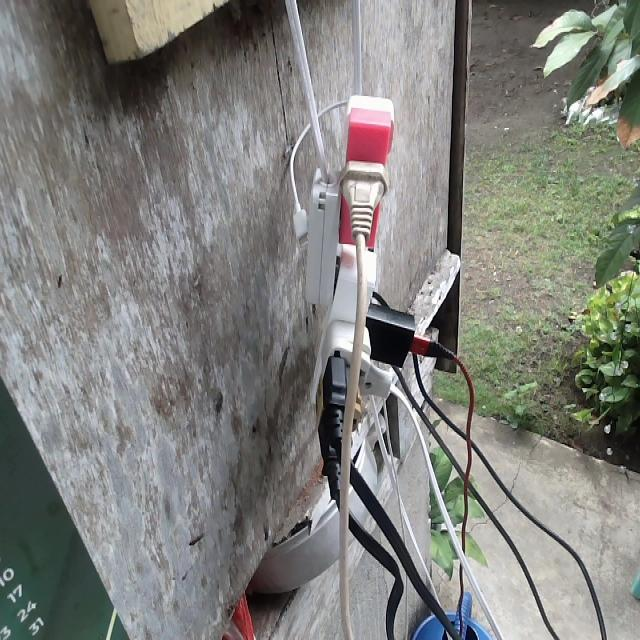-: (306, 92, 416, 479)
